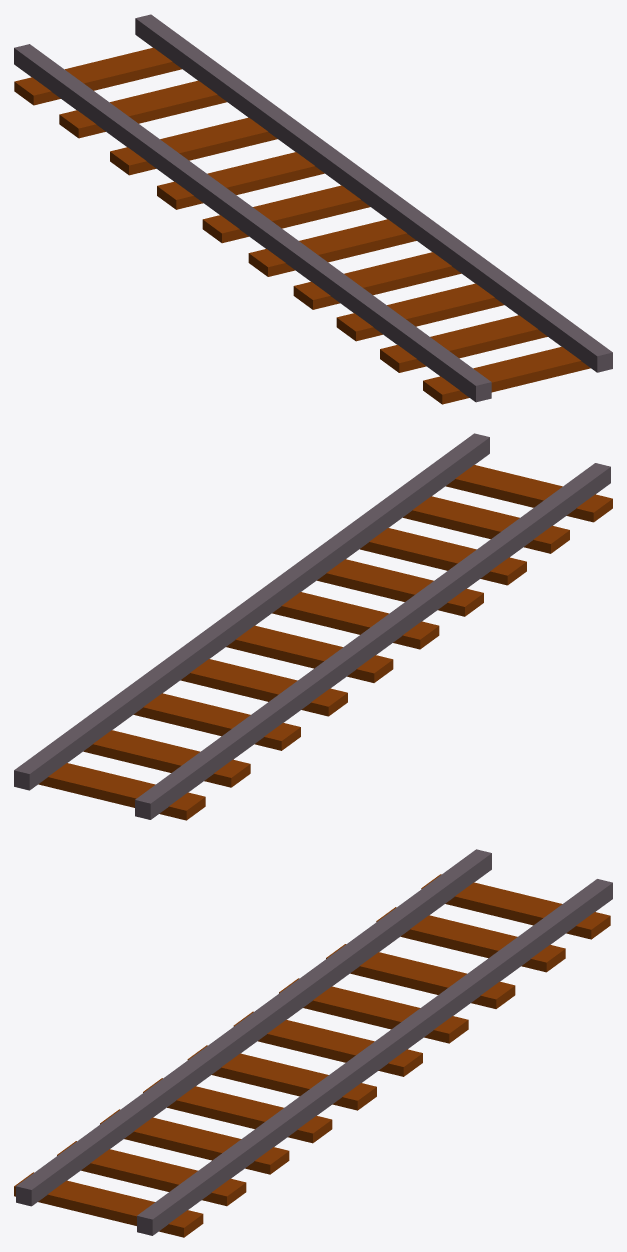
Rendered from tory.fbx.
The picture shows the model from 3 angles, top to bottom: view 1: azimuth 30°, elevation 25°; view 2: azimuth 150°, elevation 25°; view 3: azimuth 330°, elevation 25°; orthographic projection.
Visible parts, largest first — view 1: Cube.001, Cube, Cube.004, Cube.006, Cube.005, Cube.010, Cube.003, Cube.007, Cube.011, Cube.002, Cube.009, Cube.008; view 2: Cube.001, Cube, Cube.011, Cube.006, Cube.010, Cube.007, Cube.008, Cube.009, Cube.003, Cube.002, Cube.004, Cube.005; view 3: Cube, Cube.001, Cube.004, Cube.002, Cube.008, Cube.007, Cube.009, Cube.010, Cube.011, Cube.003, Cube.005, Cube.006.
Boxes of the visible parts, <box> form: Cube.001: <box>135,14,612,372</box>; Cube: <box>14,44,491,402</box>; Cube.004: <box>423,346,590,404</box>; Cube.006: <box>248,219,416,276</box>; Cube.005: <box>293,252,461,309</box>; Cube.010: <box>59,80,226,138</box>; Cube.003: <box>336,283,503,341</box>; Cube.007: <box>202,185,369,243</box>; Cube.011: <box>14,47,181,105</box>; Cube.002: <box>380,315,547,372</box>; Cube.009: <box>110,117,277,175</box>; Cube.008: <box>157,152,324,209</box>; Cube.001: <box>14,433,489,790</box>; Cube: <box>135,463,610,819</box>; Cube.011: <box>38,763,205,820</box>; Cube.006: <box>272,592,439,649</box>; Cube.010: <box>83,730,250,787</box>; Cube.007: <box>226,625,393,682</box>; Cube.008: <box>180,659,347,716</box>; Cube.009: <box>133,693,300,750</box>; Cube.003: <box>360,528,526,585</box>; Cube.002: <box>403,496,569,553</box>; Cube.004: <box>446,465,612,522</box>; Cube.005: <box>317,559,483,616</box>; Cube: <box>16,849,491,1206</box>; Cube.001: <box>137,879,612,1235</box>; Cube.004: <box>14,1172,203,1237</box>; Cube.002: <box>57,1141,246,1206</box>; Cube.008: <box>279,978,468,1043</box>; Cube.007: <box>233,1011,422,1076</box>; Cube.009: <box>326,944,515,1008</box>; Cube.010: <box>376,907,565,972</box>; Cube.011: <box>421,874,610,939</box>; Cube.003: <box>100,1109,289,1174</box>; Cube.005: <box>143,1078,332,1143</box>; Cube.006: <box>187,1045,376,1110</box>.
Bounding box in the file's own units: 1022 × 148 × 4789.
